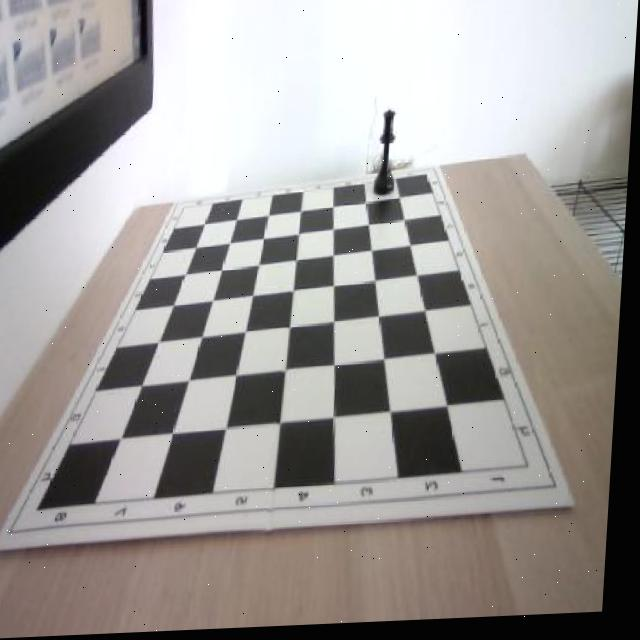black-pawn: (374, 111, 402, 203)
